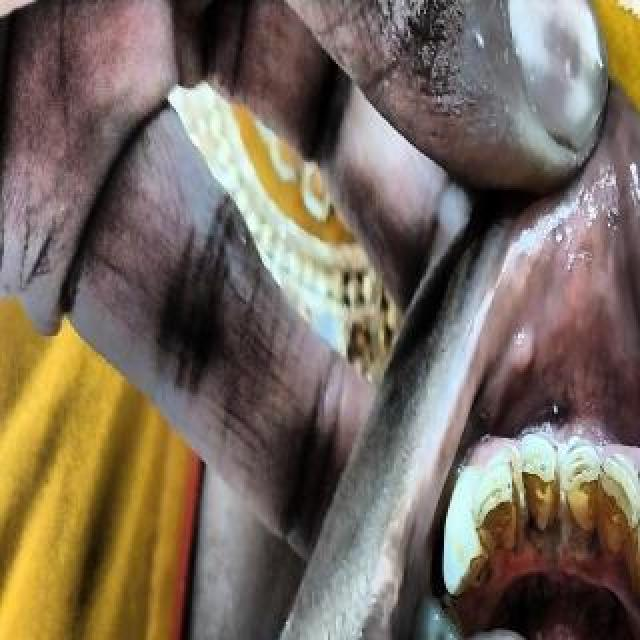calculus: (566, 463, 634, 563), (519, 471, 577, 533), (470, 501, 530, 553), (616, 546, 640, 606)
